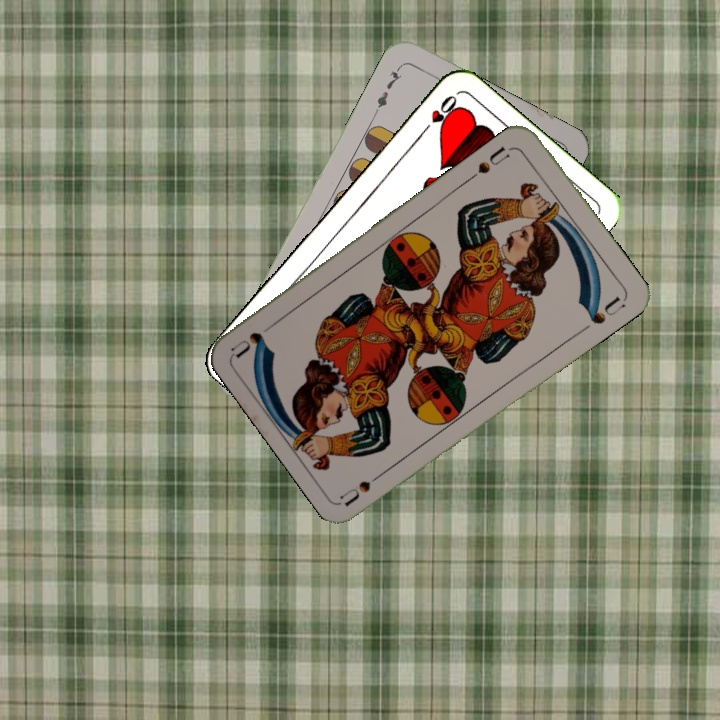E7: (370, 62, 405, 117)
HO: (415, 91, 460, 139)
SU: (337, 464, 391, 508), (465, 142, 516, 183)
